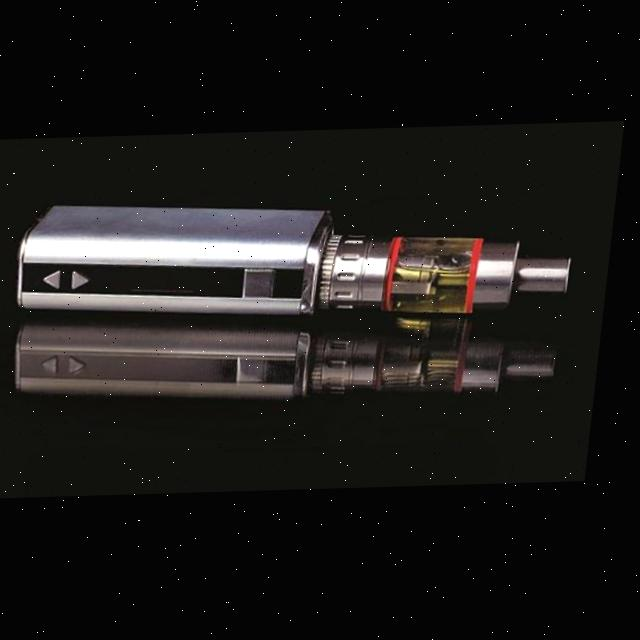vape: (17, 190, 585, 323)
